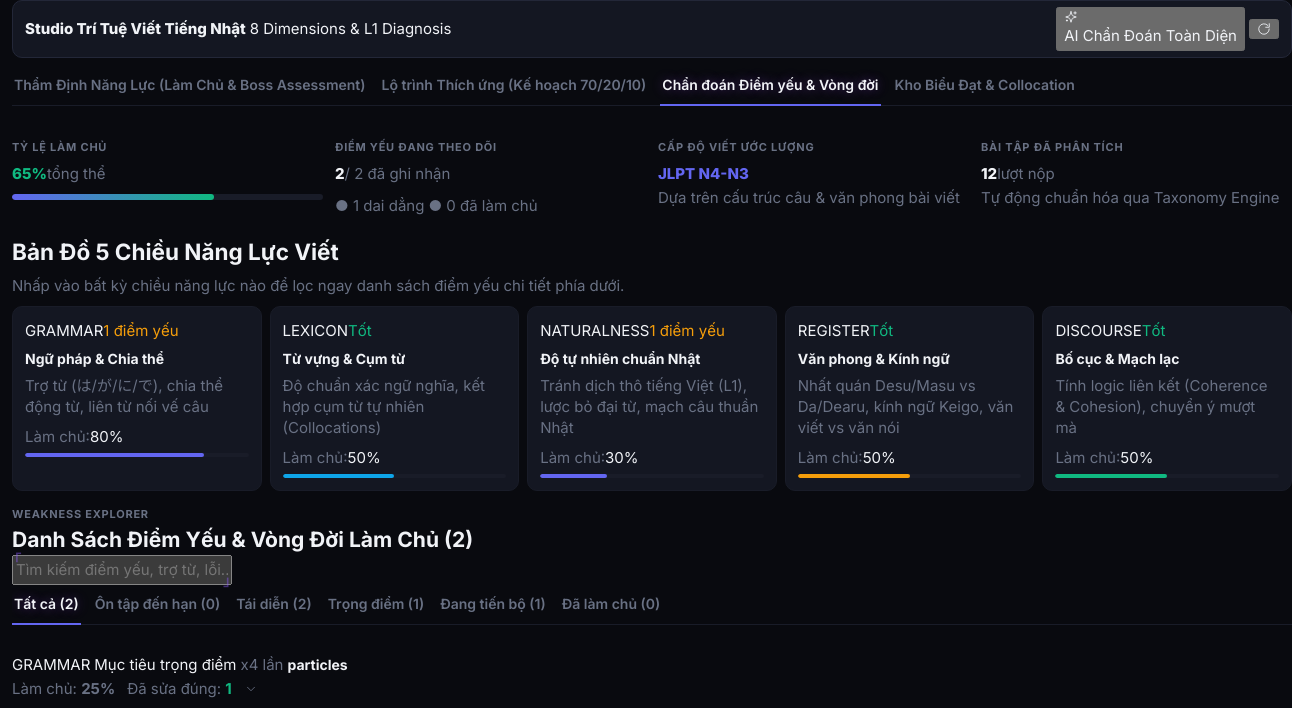
WritingIntelligencePage › allows live keyword search across weaknesses
Expected: the text "particles" is shown, [288, 654, 348, 676]
Type "trật tự câu" into the field with placeholder "Tìm kiếm điểm yếu, trợ từ, lỗi..." at (122, 570), box [12, 555, 232, 585]
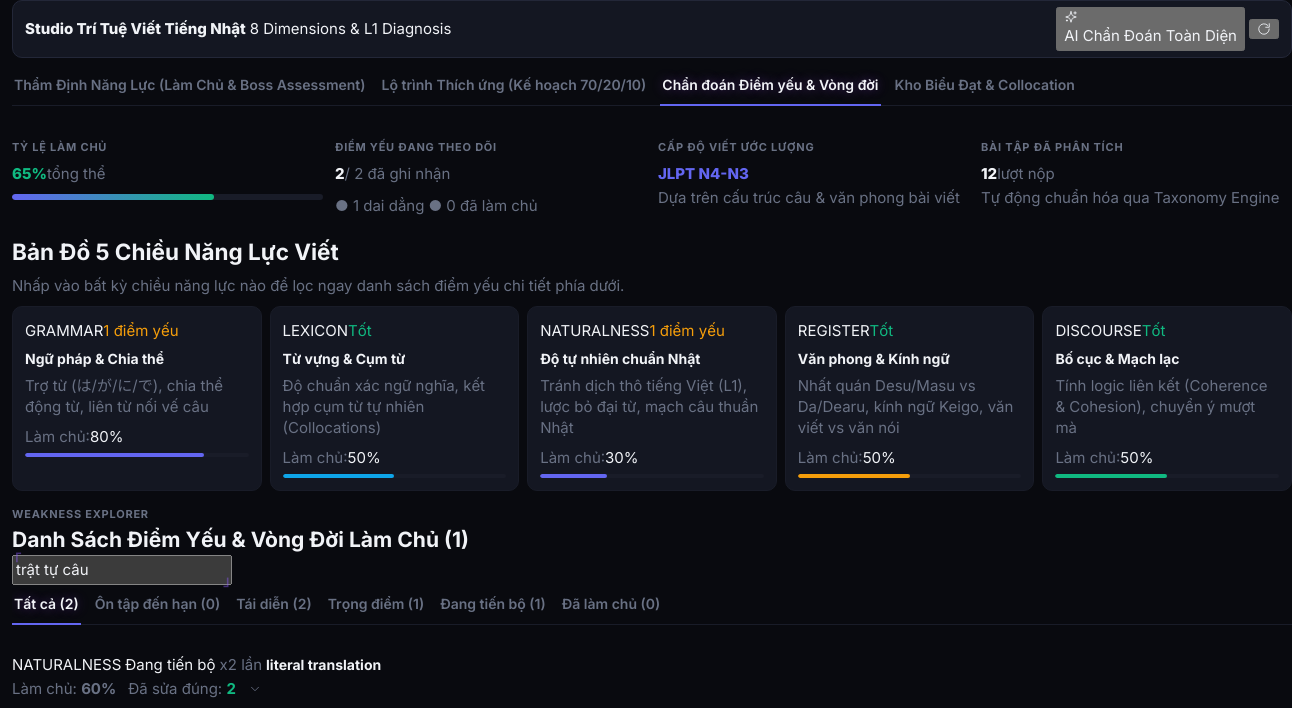
Expected: the text "literal translation" is shown, [266, 654, 381, 676]
Result: the text "particles" is gone
